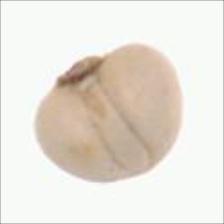L5: (76, 76, 157, 175), (52, 52, 115, 90)
L6: (31, 41, 183, 185)
